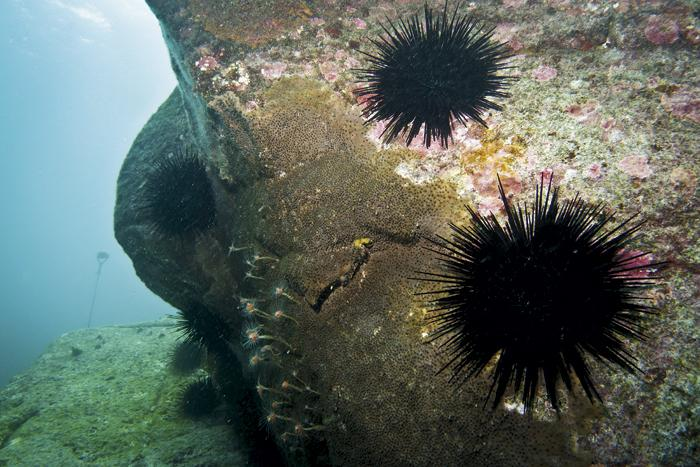urchin: (407, 170, 672, 419), (347, 6, 522, 151)
